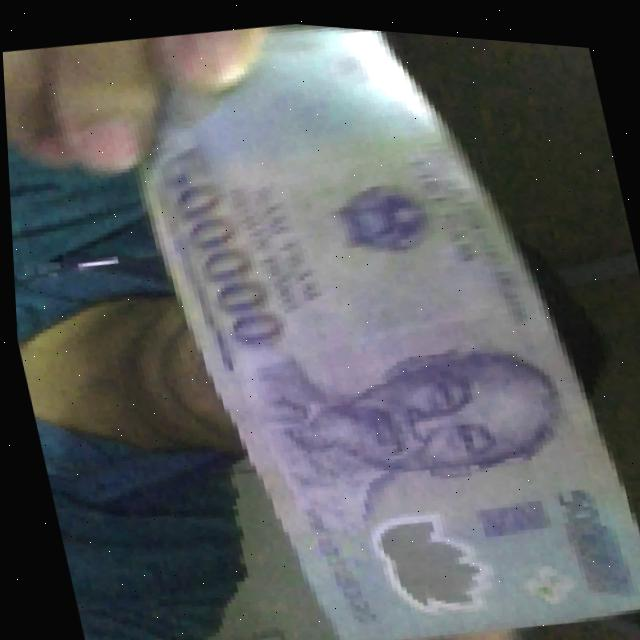500 000 VND: (102, 7, 640, 640)
